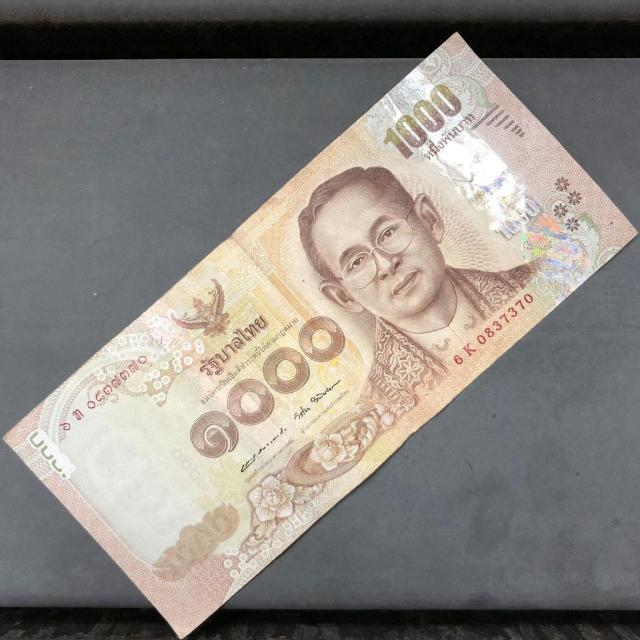THAI1000: (4, 34, 636, 637)
